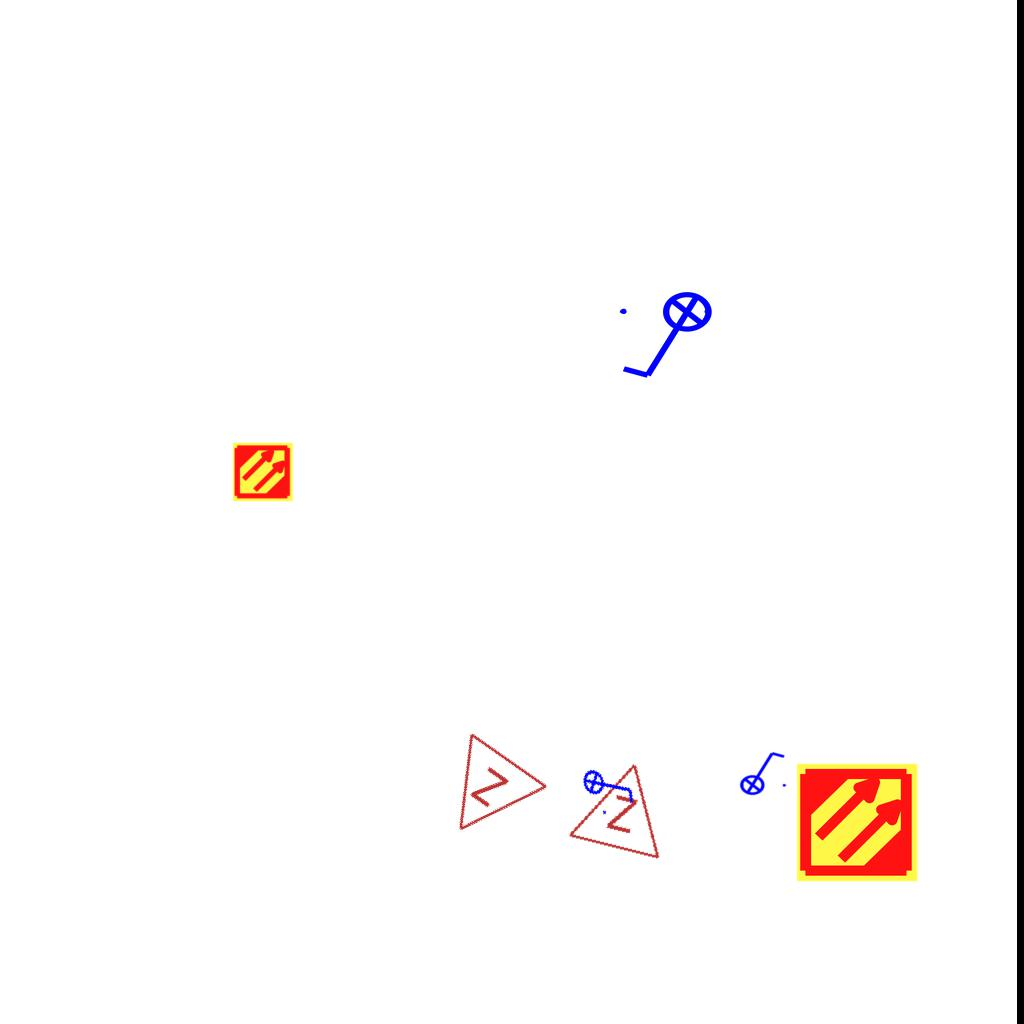ASR_Ansaugrauchmelder: (795, 760, 920, 885), (232, 441, 294, 503)
Ausschalter_beleuchtet: (614, 290, 726, 386), (576, 751, 642, 821), (733, 748, 789, 796)
Zimmersignalleuchte: (417, 725, 555, 865), (563, 745, 683, 867)
